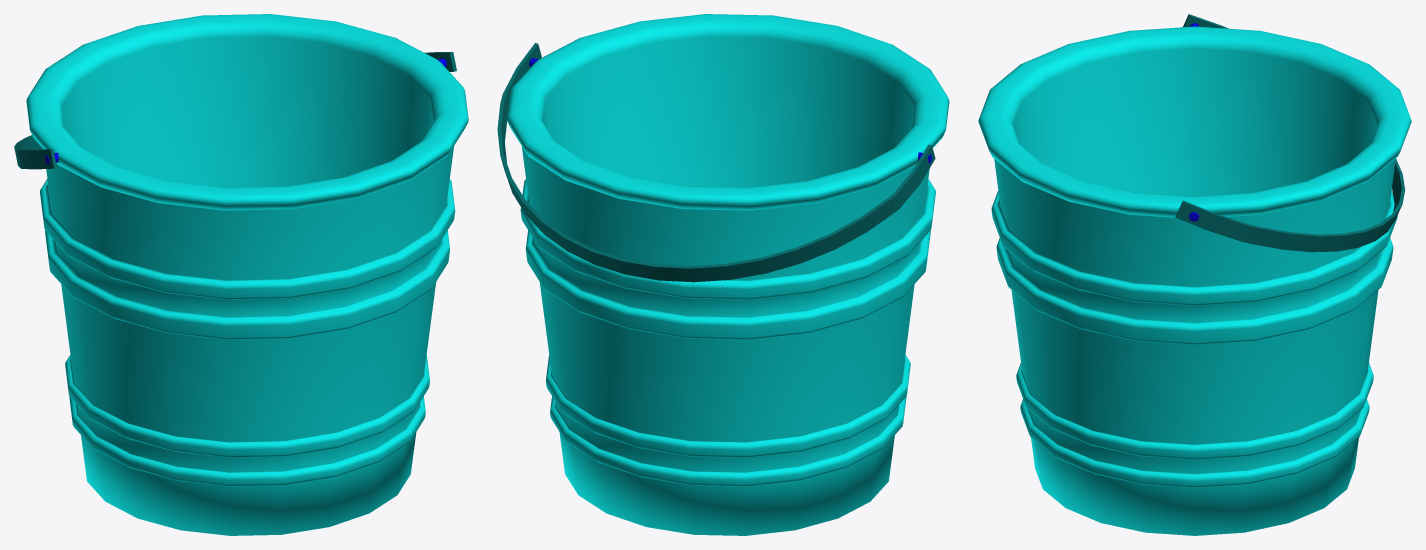
The model's file is Bucket_02.fbx.
3 views of the same model, side by side, from view 1: azimuth 30°, elevation 25°; view 2: azimuth 150°, elevation 25°; view 3: azimuth 270°, elevation 25° (orthographic). The views are drawn at different scales.
Visible parts, largest first — view 1: Bucket_Handle1; view 2: Bucket_Handle1; view 3: Bucket_Handle1.
Part boxes in pixels (left/top/right/bottom): Bucket_Handle1: left=14, top=14, right=468, bottom=535; Bucket_Handle1: left=497, top=14, right=949, bottom=535; Bucket_Handle1: left=978, top=14, right=1411, bottom=535.
Bounding box in the file's own units: 23.68 × 20.82 × 22.63.
